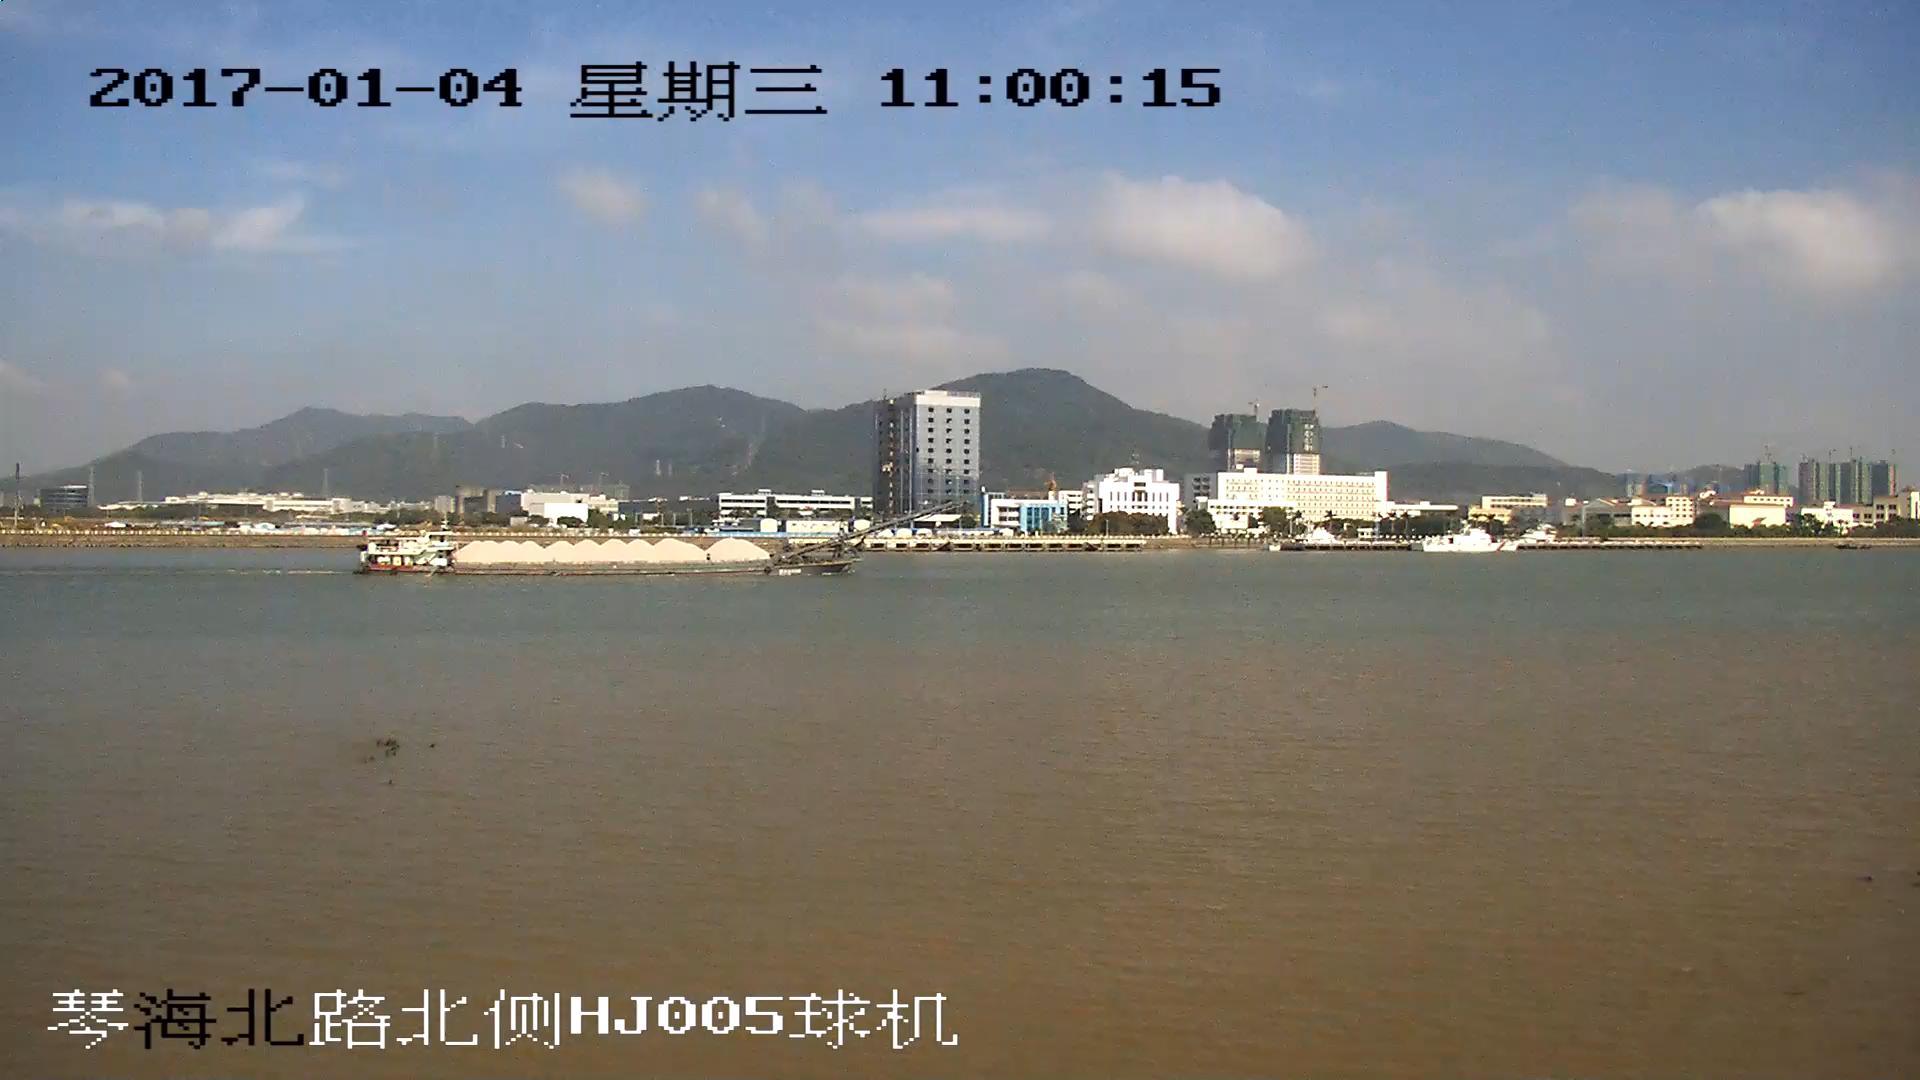ore carrier: (363, 503, 960, 575)
